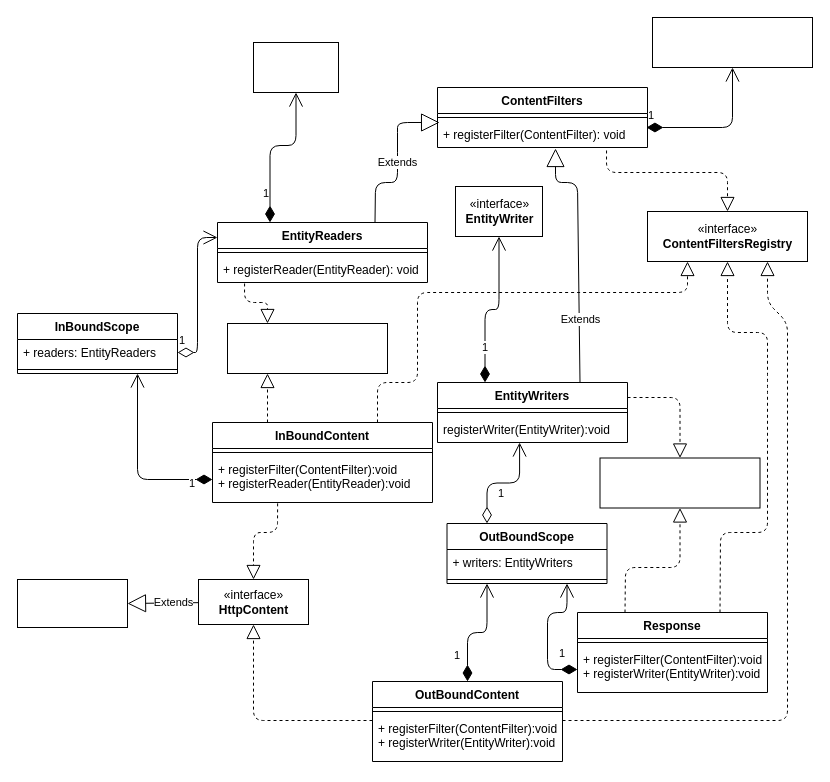
The diagram is 830 pixels wide and 782 high, and some of its shapes have lost their labels. The centre of each missing label's shape, as x and y in pixels:
«interface» ContentFilter: the point at 732,42
«interface» ContentReadersRegistry: the point at 307,348
«interface» ContentWritersRegistry: the point at 679,482
«interface» EntityReader: the point at 295,67
«interface» Publisher: the point at 72,603
